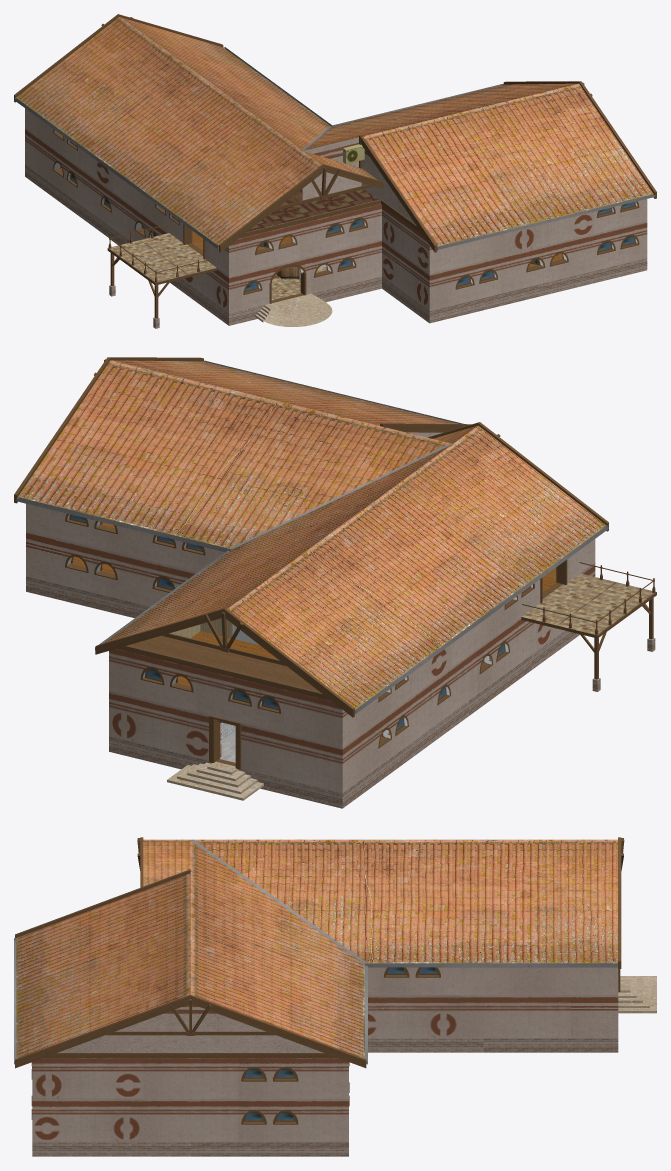
File: Building01.fbx
3 views of the same model, one above another, from view 1: azimuth 30°, elevation 25°; view 2: azimuth 150°, elevation 25°; view 3: azimuth 270°, elevation 25° (orthographic). The views are drawn at different scales.
Parts seen in each view (by area): view 1: Building02:Building01; view 2: Building02:Building01; view 3: Building02:Building01.
Part boxes in pixels (x1,y1,x2,y2): Building02:Building01: [14, 14, 656, 328]; Building02:Building01: [14, 357, 656, 808]; Building02:Building01: [14, 837, 656, 1156].
Bounding box in the file's own units: 3712 × 1127 × 4059.
34 materials, 34 textured.
